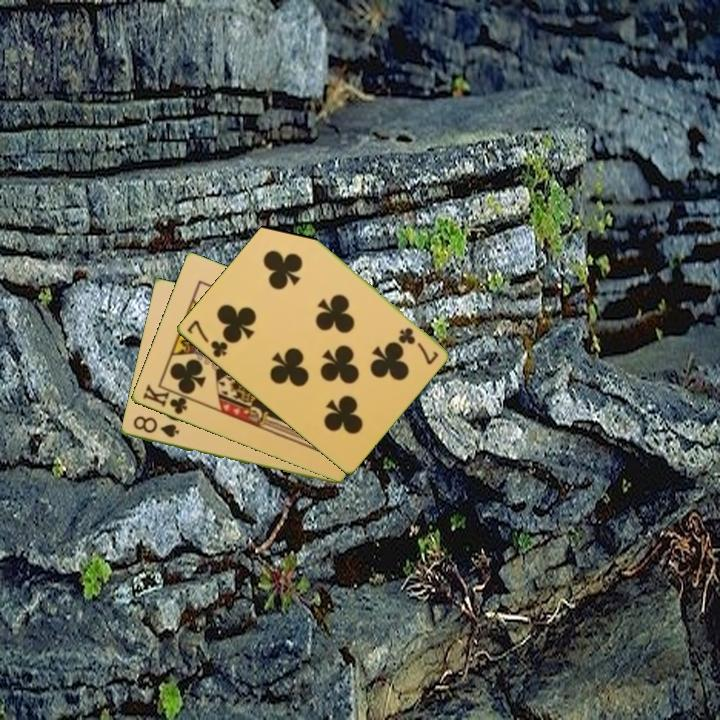7c: (183, 316, 230, 361), (395, 324, 441, 367)
8s: (129, 412, 182, 441)
Kc: (139, 381, 196, 417)
